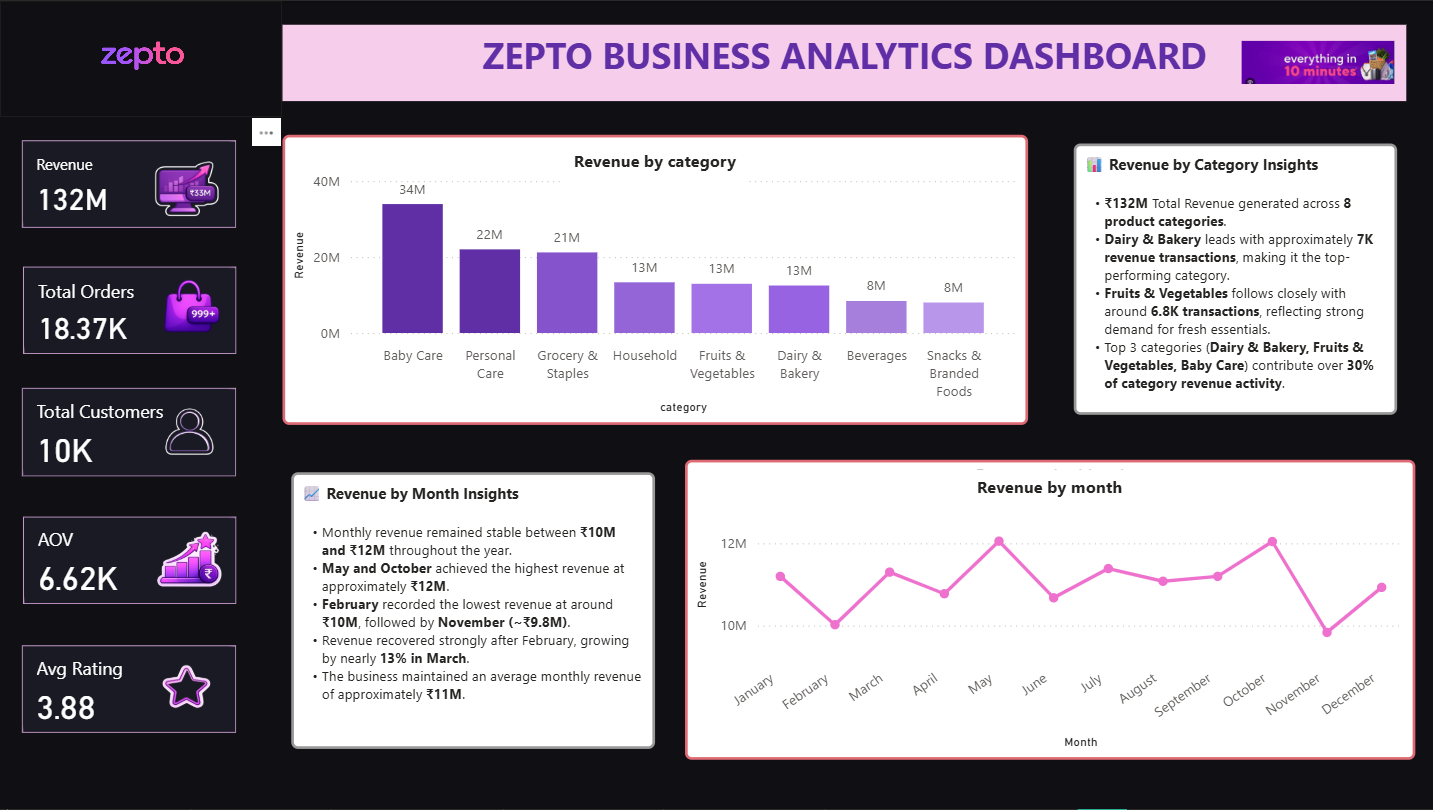

The dashboard page shown, as its layout file describes it:
{"tool":"powerbi","page":{"name":"Executive Overview","canvas":[1280,720],"ordinal":0},"visuals":[{"type":"image","box":[0,0,251.5,103.1],"z":0},{"type":"cardVisual","title":"Revenue","fields":{"Data":["customer_Sheet.Revenue"]},"box":[14.7,119,201.2,88.3],"z":1000},{"type":"cardVisual","title":"Revenue","fields":{"Data":["Count(transaction_Sheet.order_id)"]},"box":[16,231.9,200,88.3],"z":2000},{"type":"cardVisual","title":"Revenue","fields":{"Data":["Count(customer_Sheet.customer_id)"]},"box":[14.7,339.9,201.2,89.6],"z":3000},{"type":"cardVisual","title":"Revenue","fields":{"Data":["customer_Sheet.AOV"]},"box":[16,454,200,88.3],"z":4000},{"type":"cardVisual","title":"Revenue","fields":{"Data":["customer_Sheet.Avg Rating"]},"box":[14.7,569.3,201.2,88.3],"z":5000},{"type":"columnChart","fields":{"Category":["product_Sheet.category"],"Y":["customer_Sheet.Revenue"]},"box":[251.2,118.8,663.8,258.8],"z":6000},{"type":"lineChart","fields":{"Y":["customer_Sheet.Revenue"],"Category":["order_Sheet.order_date.Variation.Date Hierarchy.Year","order_Sheet.order_date.Variation.Date Hierarchy.Quarter","order_Sheet.order_date.Variation.Date Hierarchy.Month","order_Sheet.order_date.Variation.Date Hierarchy.Day"]},"box":[609.8,408.6,650.3,267.5],"z":7000},{"type":"textbox","box":[955.8,126.4,288.3,241.7],"z":8000},{"type":"textbox","box":[258.9,419.6,323.9,246.6],"z":9000},{"type":"textbox","box":[854,417.2,162,36.8],"z":10000},{"type":"textbox","box":[499.4,126.4,166.9,36.8],"z":11000},{"type":"textbox","box":[251.5,20.9,1001,68],"z":12000},{"type":"image","box":[1108,19.6,146,56.4],"z":13000},{"type":"image","box":[71.2,103.1,187.7,138.7],"z":14000},{"type":"image","box":[93.3,328.8,150.9,125.2],"z":15000},{"type":"image","box":[84.7,222.1,168.1,109.2],"z":16000},{"type":"image","box":[90.8,439.3,153.4,117.8],"z":17000},{"type":"image","box":[117.8,563.2,95.7,100.6],"z":18000}]}

Visuals, with their boxes in screenshot pixels (x1, y1, x2, y2), scaled from the page's 1280x720 canvas onto the 1433x810 screenshot:
image: [0, 0, 282, 116]
"Revenue" cardVisual: [16, 134, 242, 233]
"Revenue" cardVisual: [18, 261, 242, 360]
"Revenue" cardVisual: [16, 382, 242, 483]
"Revenue" cardVisual: [18, 511, 242, 610]
"Revenue" cardVisual: [16, 640, 242, 740]
columnChart - product_Sheet.category x customer_Sheet.Revenue: [281, 134, 1024, 425]
lineChart - customer_Sheet.Revenue x order_Sheet.order_date.Variation.Date Hierarchy.Year: [683, 460, 1411, 761]
textbox: [1070, 142, 1393, 414]
textbox: [290, 472, 652, 749]
textbox: [956, 469, 1137, 511]
textbox: [559, 142, 746, 184]
textbox: [282, 24, 1402, 100]
image: [1240, 22, 1404, 86]
image: [80, 116, 290, 272]
image: [104, 370, 273, 511]
image: [95, 250, 283, 373]
image: [102, 494, 273, 627]
image: [132, 634, 239, 747]
